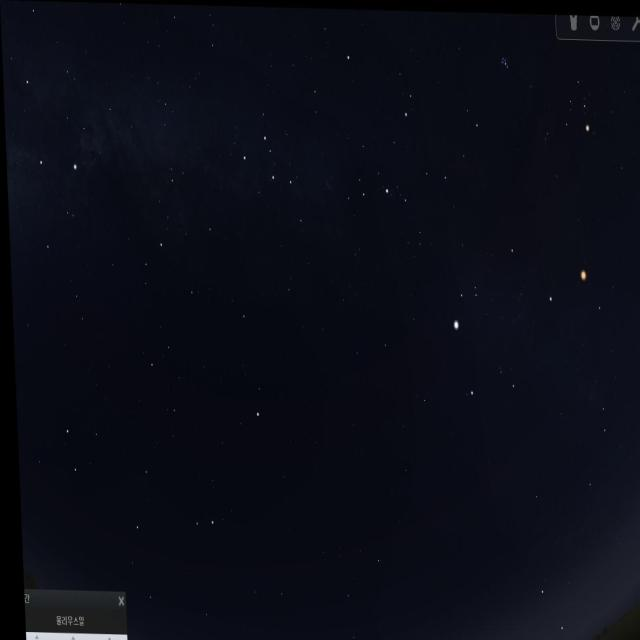cassiopeia: (229, 98, 312, 239)
pleiades: (498, 46, 514, 82)
